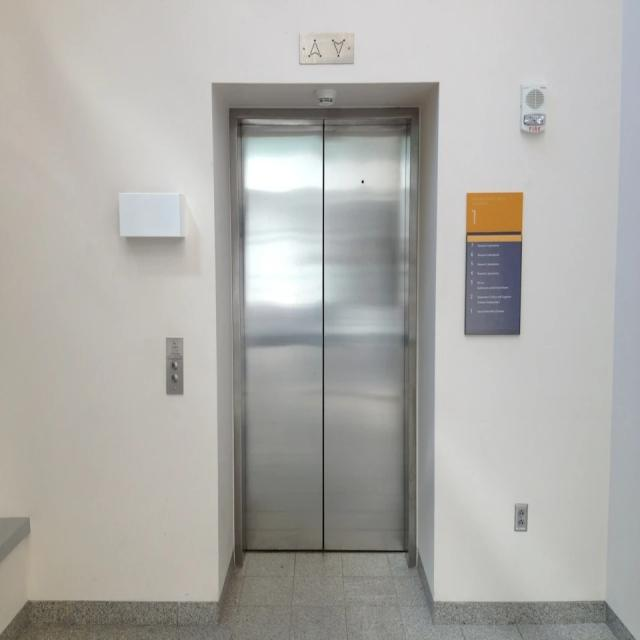elevator: (162, 12, 456, 599)
